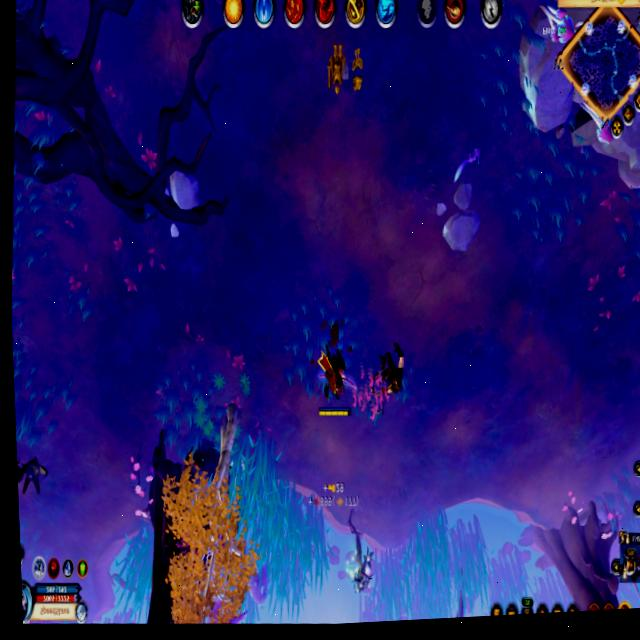ore: (342, 510, 384, 598)
red: (312, 338, 357, 423)
wisp caged: (155, 396, 273, 629)
